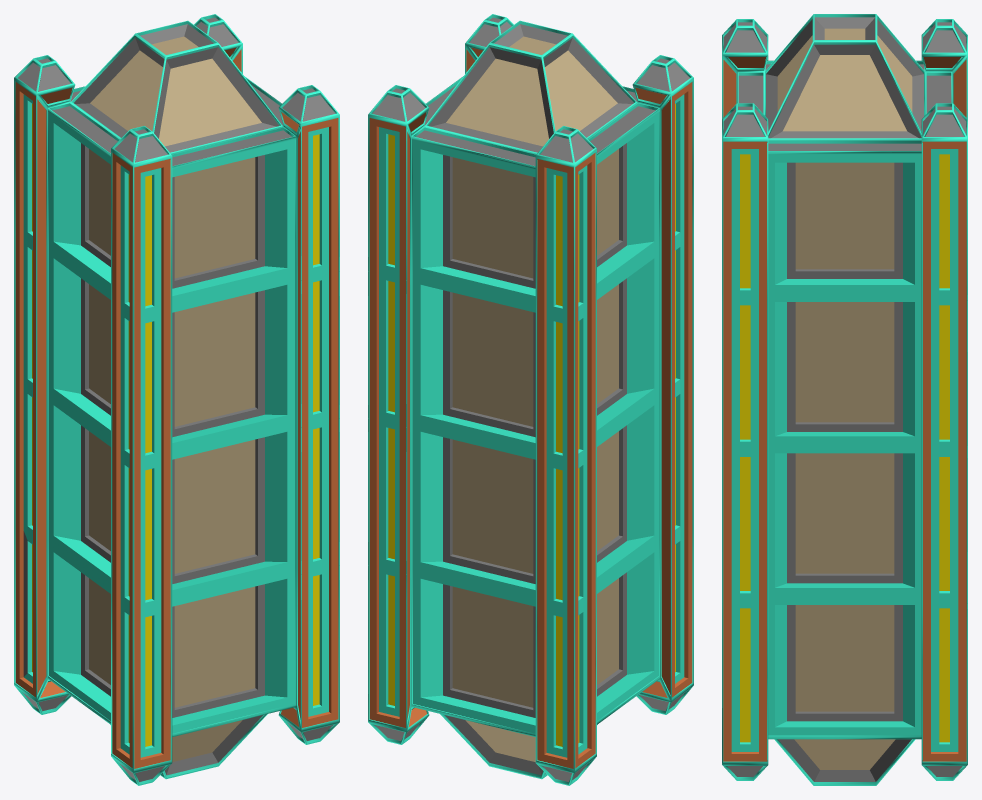
The model's file is AlienPillar_2.fbx.
The picture shows the model from 3 angles, left to right: view 1: azimuth 30°, elevation 25°; view 2: azimuth 150°, elevation 25°; view 3: azimuth 270°, elevation 25°; orthographic projection. The views are drawn at different scales.
Parts seen in each view (by area): view 1: AlienPillar_3; view 2: AlienPillar_3; view 3: AlienPillar_3.
Part boxes in pixels (left/top/right/bottom): AlienPillar_3: left=14, top=14, right=339, bottom=785; AlienPillar_3: left=368, top=14, right=693, bottom=785; AlienPillar_3: left=722, top=14, right=967, bottom=785.
Bounding box in the file's own units: 503 × 1684 × 503.
